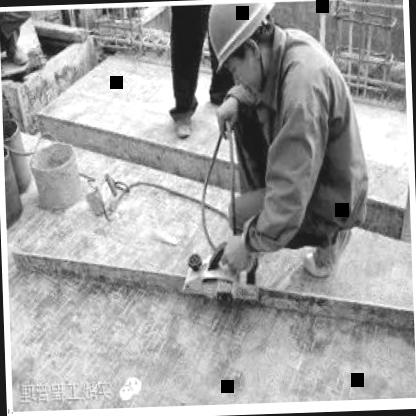helmet: (198, 0, 285, 96)
